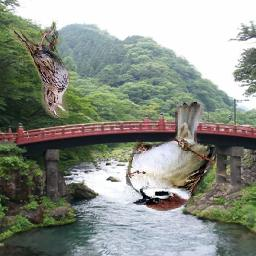Sparrow: (127, 103, 218, 212), (10, 2, 71, 119)
